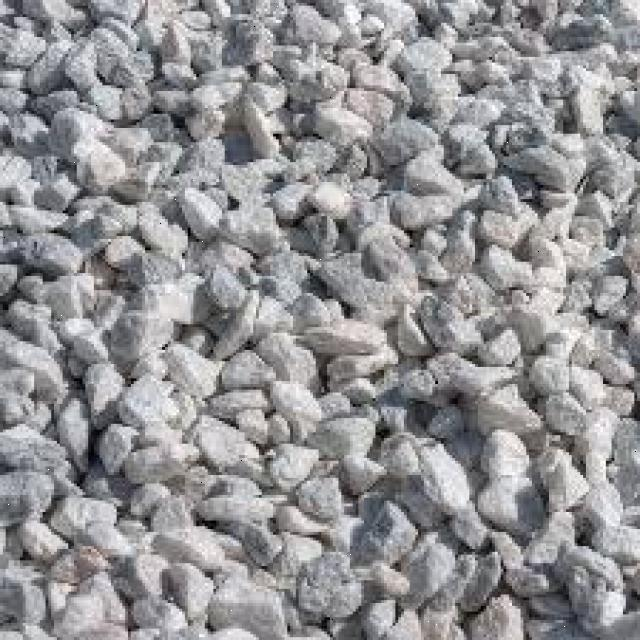Metamorphic: (8, 6, 634, 628)
